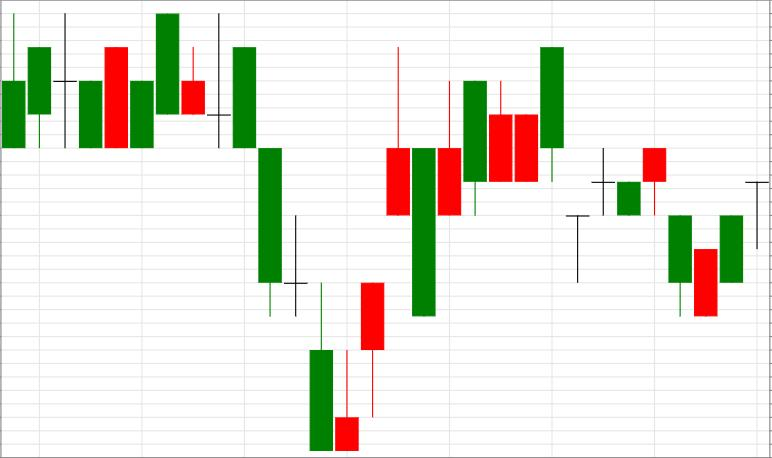inverse_hammer_rise: (182, 13, 359, 450)
three_white_soldiers_rise: (183, 14, 409, 450)
